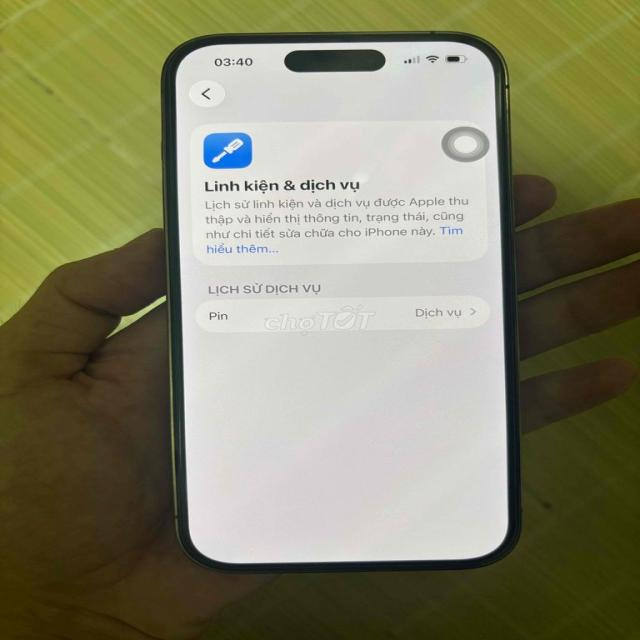gen_14: (150, 29, 532, 584)
